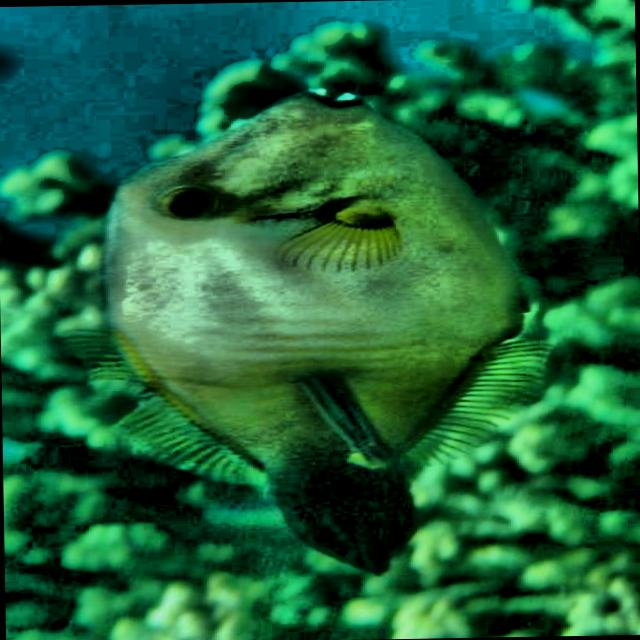fish: (55, 75, 560, 578)
